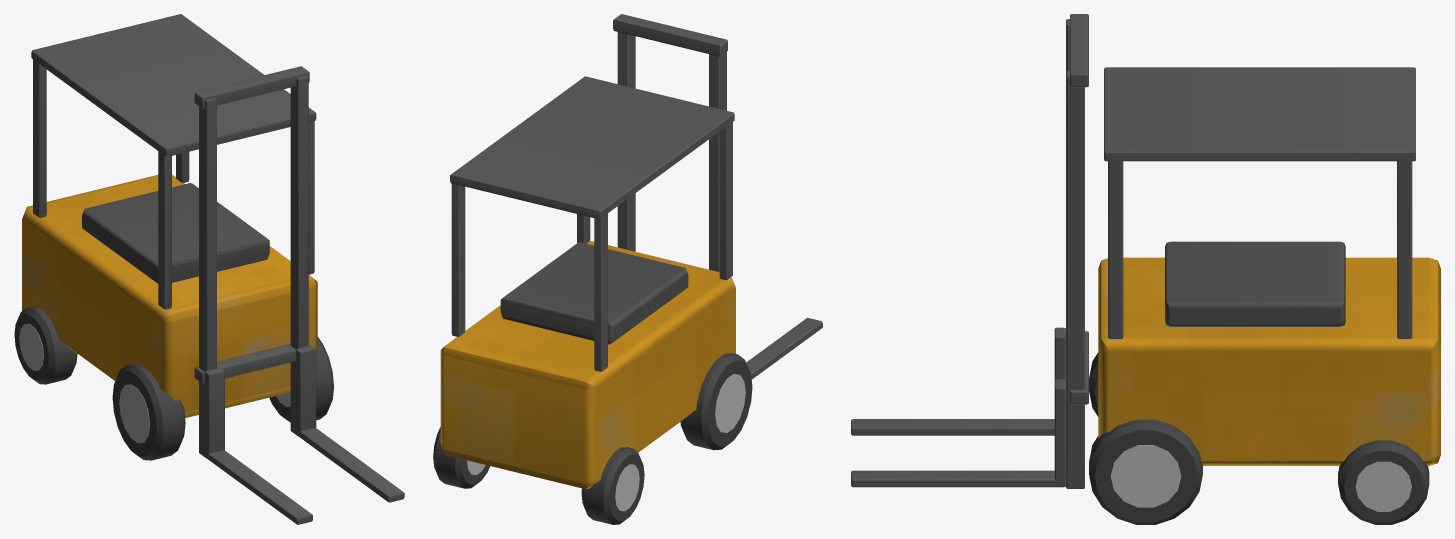
File: forklift.glb
3 views of the same model, side by side, from view 1: azimuth 30°, elevation 25°; view 2: azimuth 150°, elevation 25°; view 3: azimuth 270°, elevation 25° (orthographic). The views are drawn at different scales.
Visible parts, largest first — view 1: model; view 2: model; view 3: model.
Part boxes in pixels (left/top/right/bottom): model: left=14, top=14, right=404, bottom=524; model: left=433, top=14, right=822, bottom=524; model: left=851, top=14, right=1440, bottom=524.
Bounding box in the file's own units: 1.24 × 2.52 × 3.1.
Materials: 5 (1 with a texture image).
